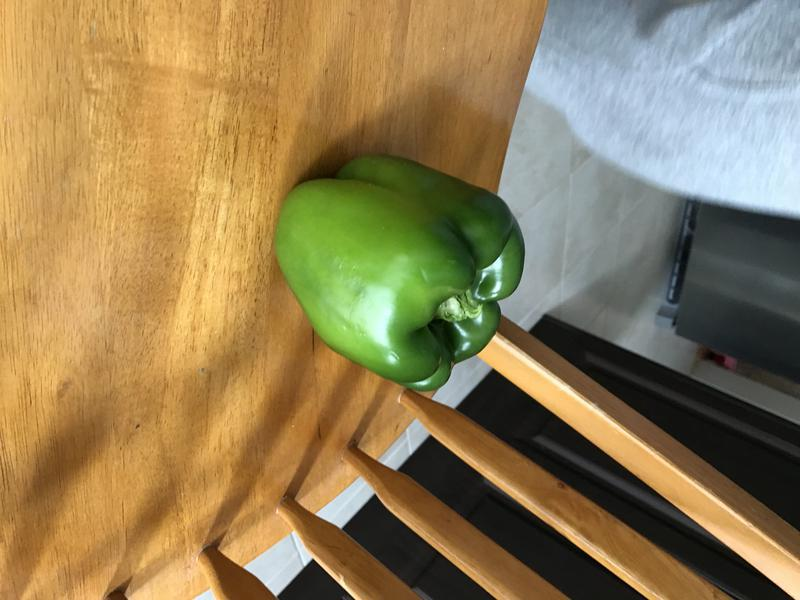green_pepper: (263, 137, 538, 408)
